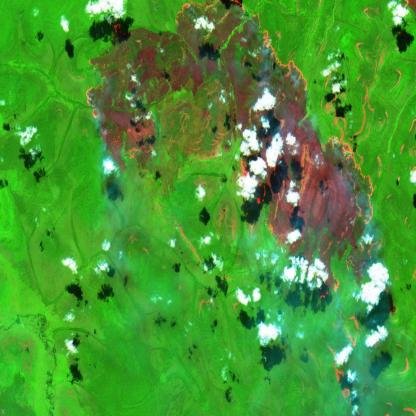fire: (172, 0, 387, 312), (83, 26, 164, 196)
